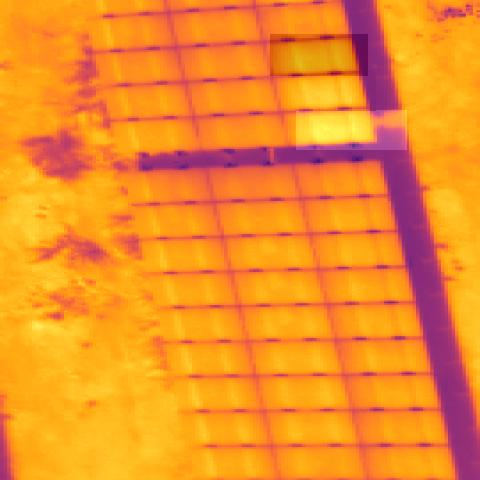fault: (296, 110, 407, 150), (270, 34, 368, 76), (280, 71, 376, 111)
